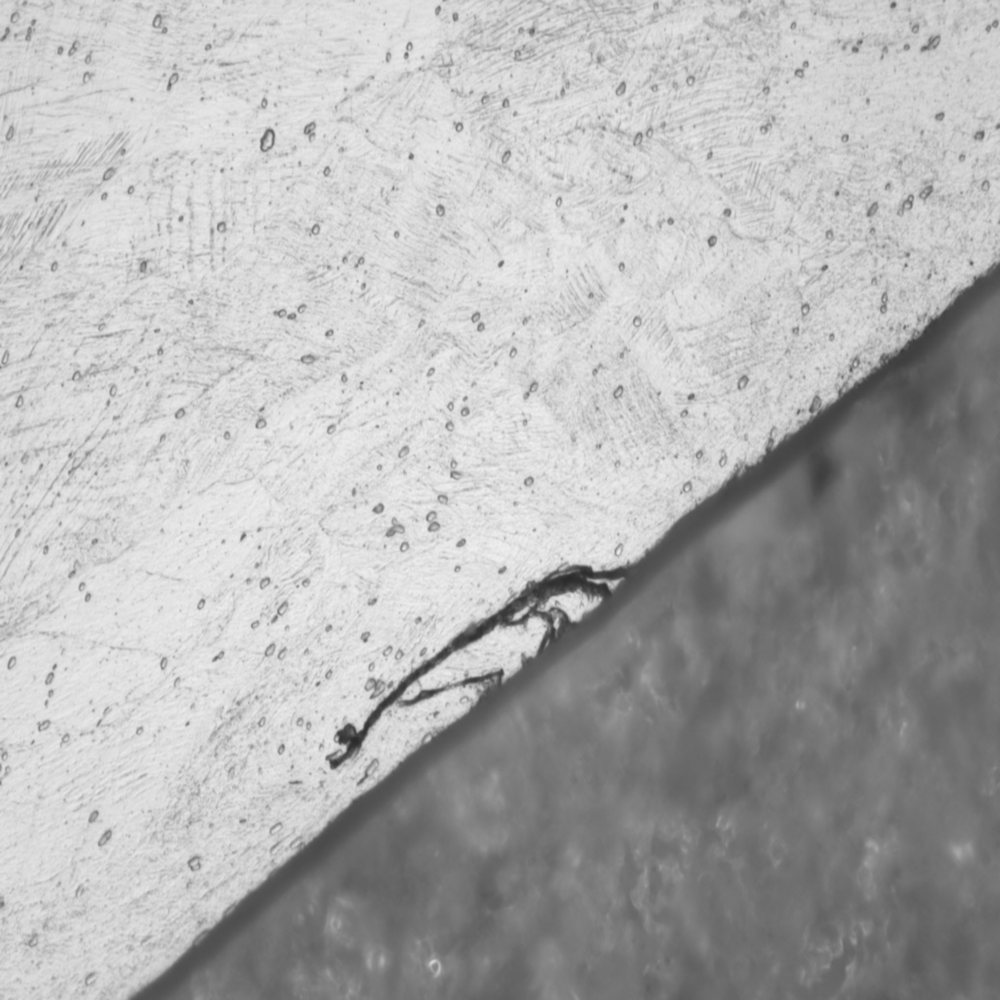crack: (304, 548, 637, 771)
